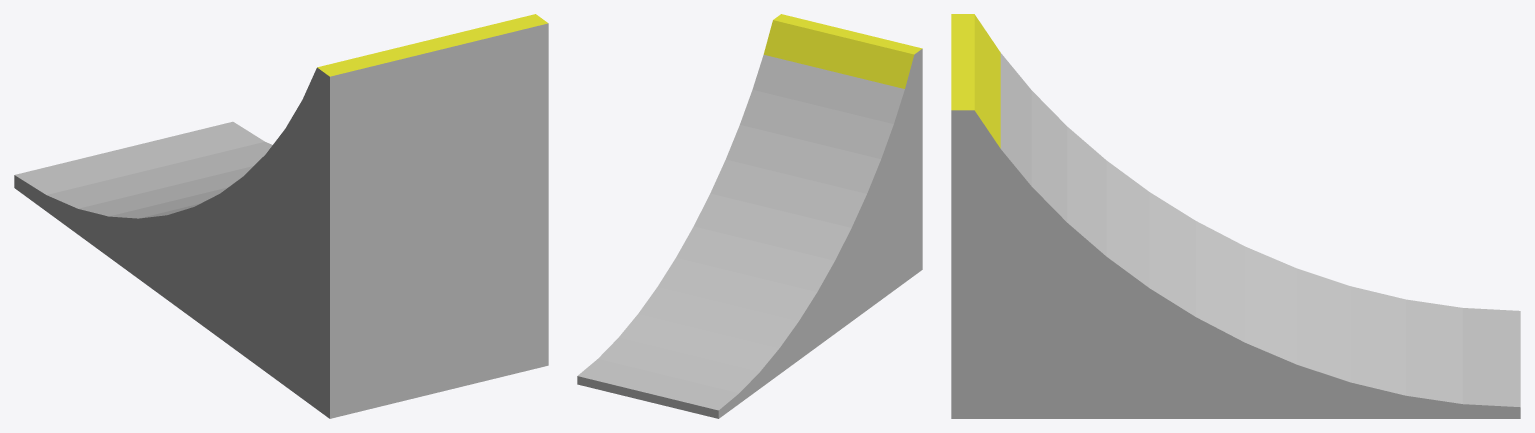
Rendered from StepUpHigh_10x25x15.fbx.
3 renders of one model, left to right at view 1: azimuth 30°, elevation 25°; view 2: azimuth 150°, elevation 25°; view 3: azimuth 270°, elevation 25°, orthographic. The views are drawn at different scales.
Visible parts, largest first — view 1: StepUpHigh_10x25x15; view 2: StepUpHigh_10x25x15; view 3: StepUpHigh_10x25x15.
Part boxes in pixels (left/top/right/bottom): StepUpHigh_10x25x15: left=14, top=14, right=548, bottom=418; StepUpHigh_10x25x15: left=577, top=14, right=922, bottom=418; StepUpHigh_10x25x15: left=951, top=14, right=1520, bottom=418.
Bounding box in the file's own units: 10.01 × 25.01 × 14.97.
